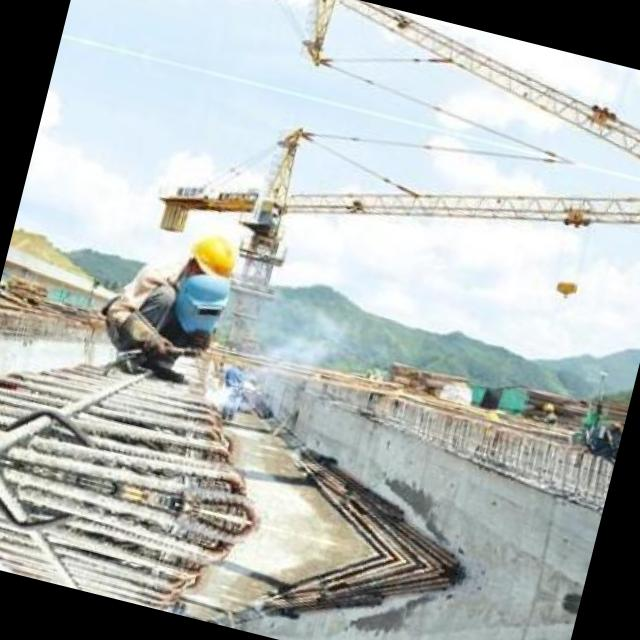helmet: (180, 224, 244, 288)
